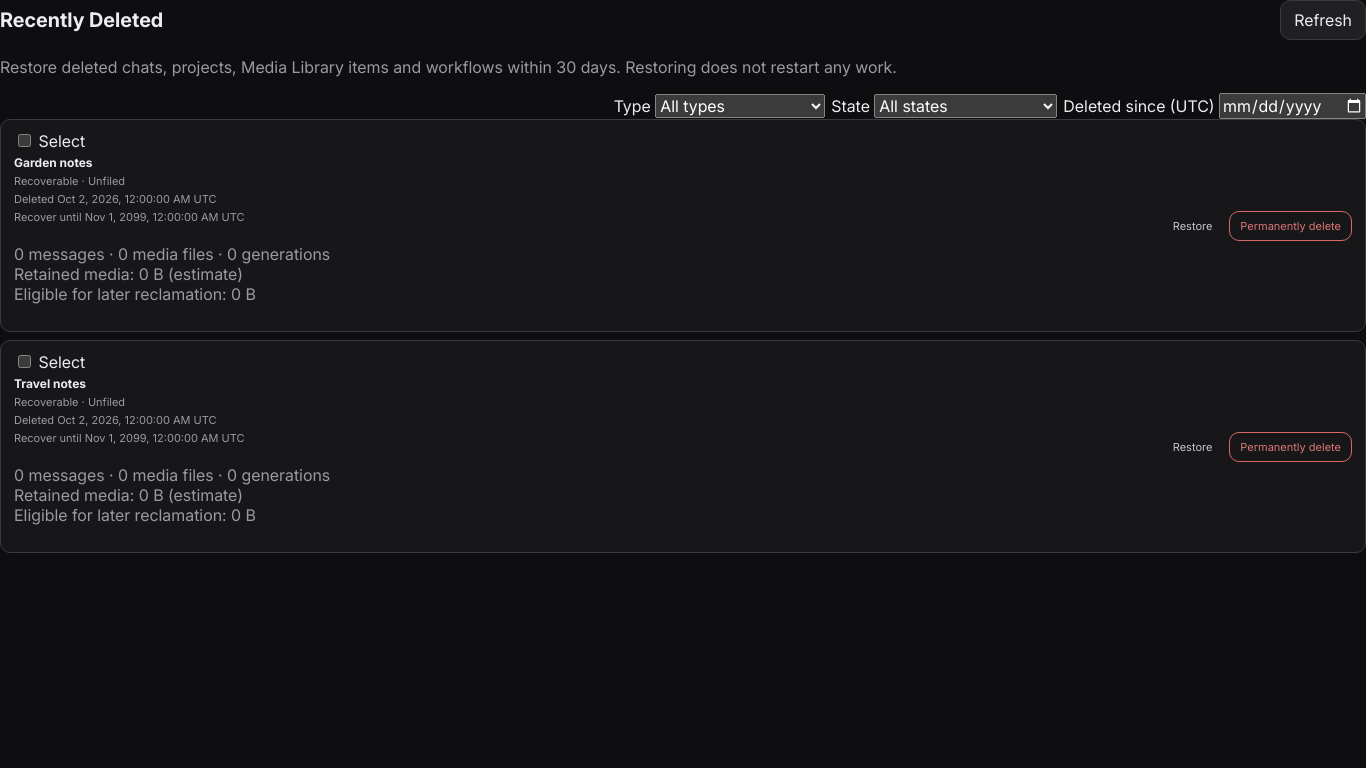
Test: waits for one materialized preview and sends one atomic command for the whole selection
The width and height of the screenshot is (1366, 768).
Click the checkbox named "Select Garden notes" at (24, 140), box [18,134,31,147]
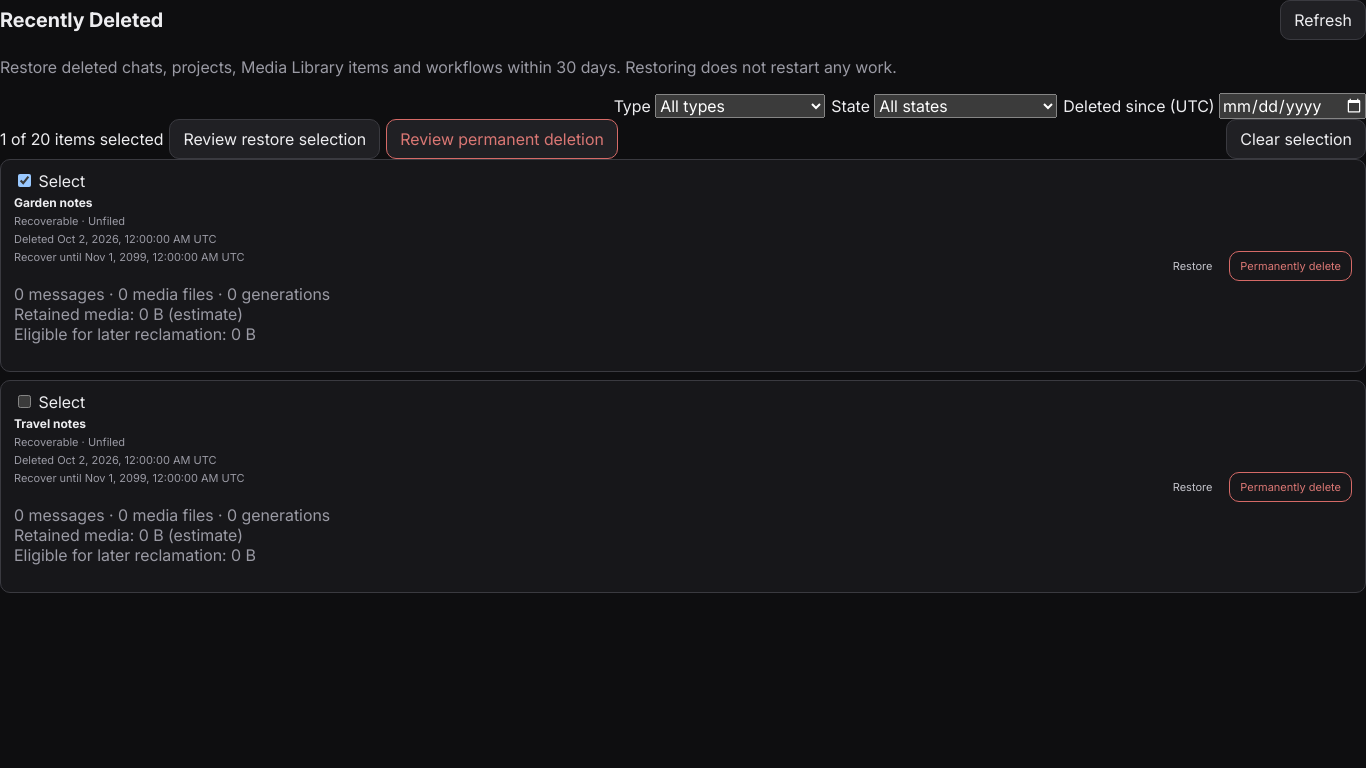
Click the checkbox named "Select Travel notes" at (24, 402), box [18,395,31,408]
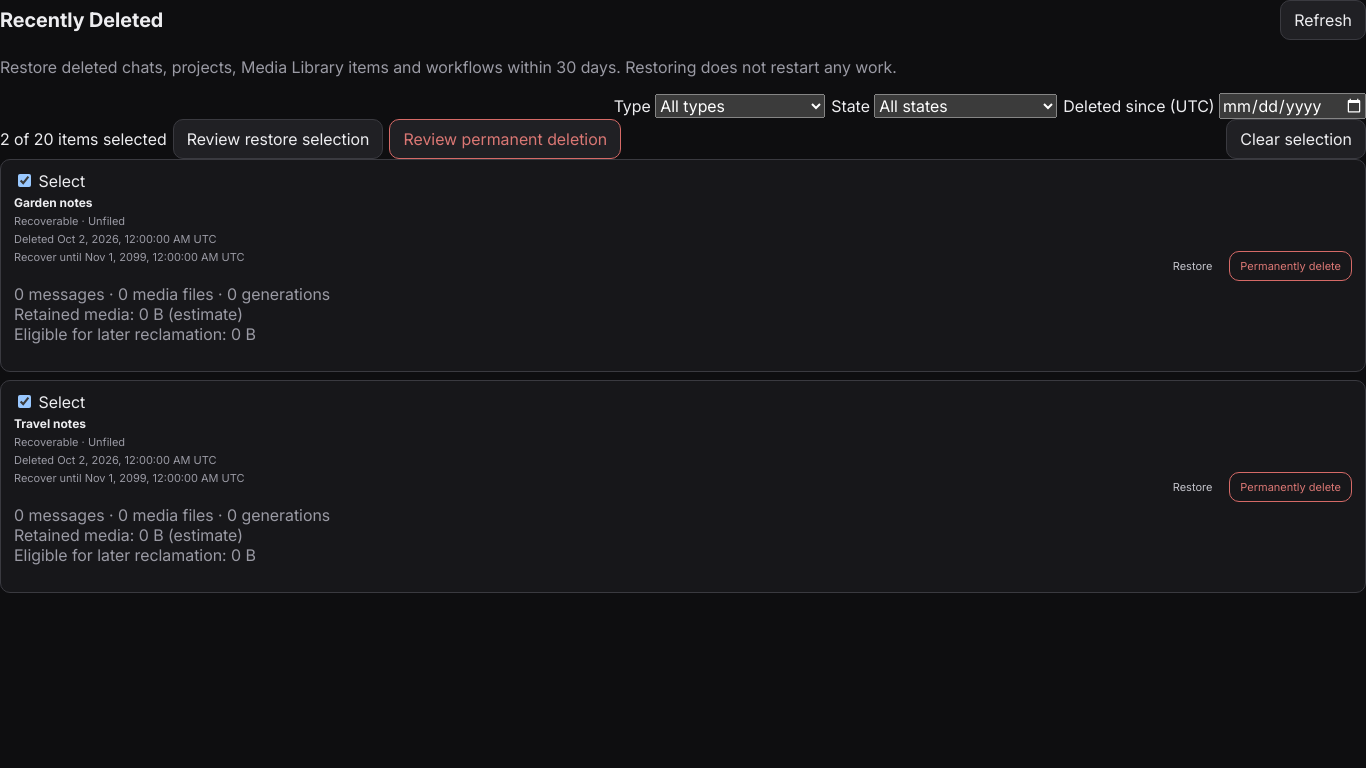
Click the button "Review restore selection" at (278, 139), box [173,119,384,159]
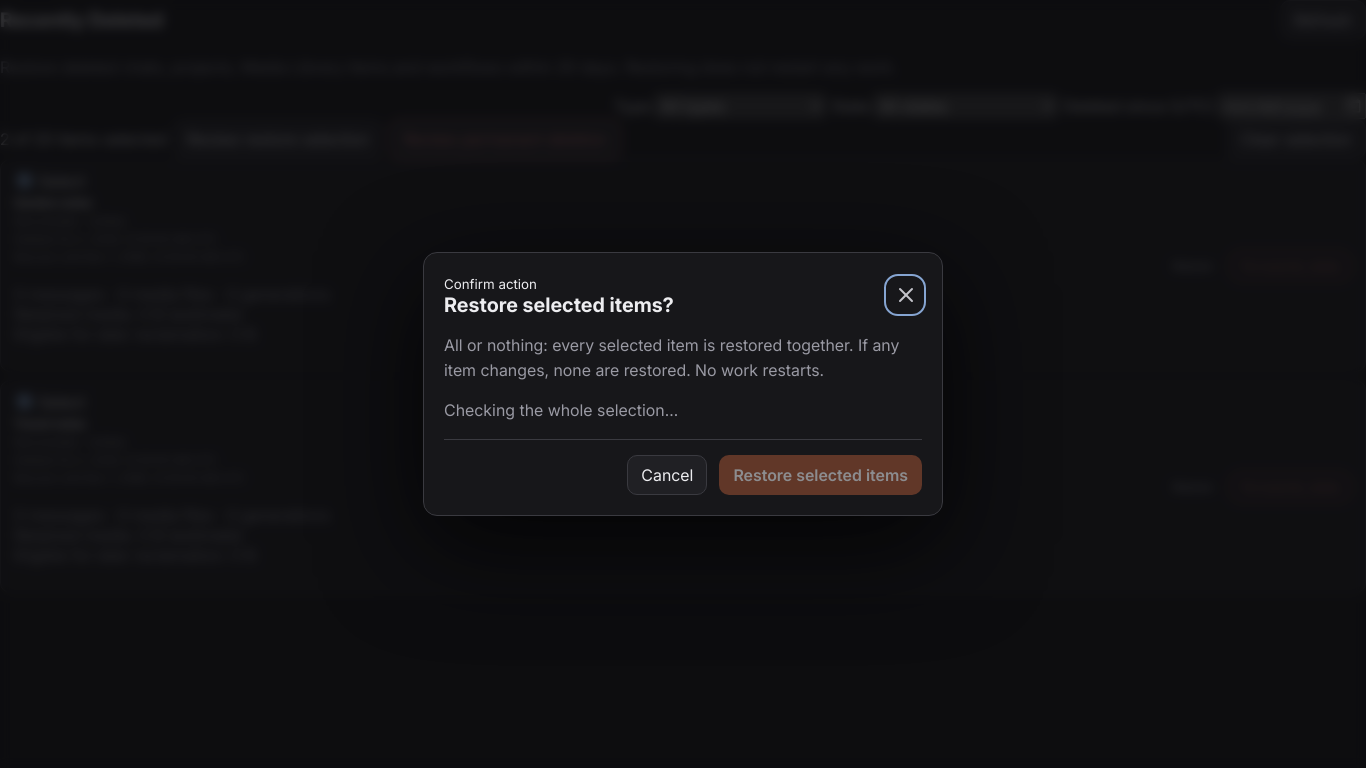
Now the text "All or nothing: every selected item" is shown, box [444,335,899,380]
Click the button "Restore selected items" at (821, 475), box [719,455,922,495]
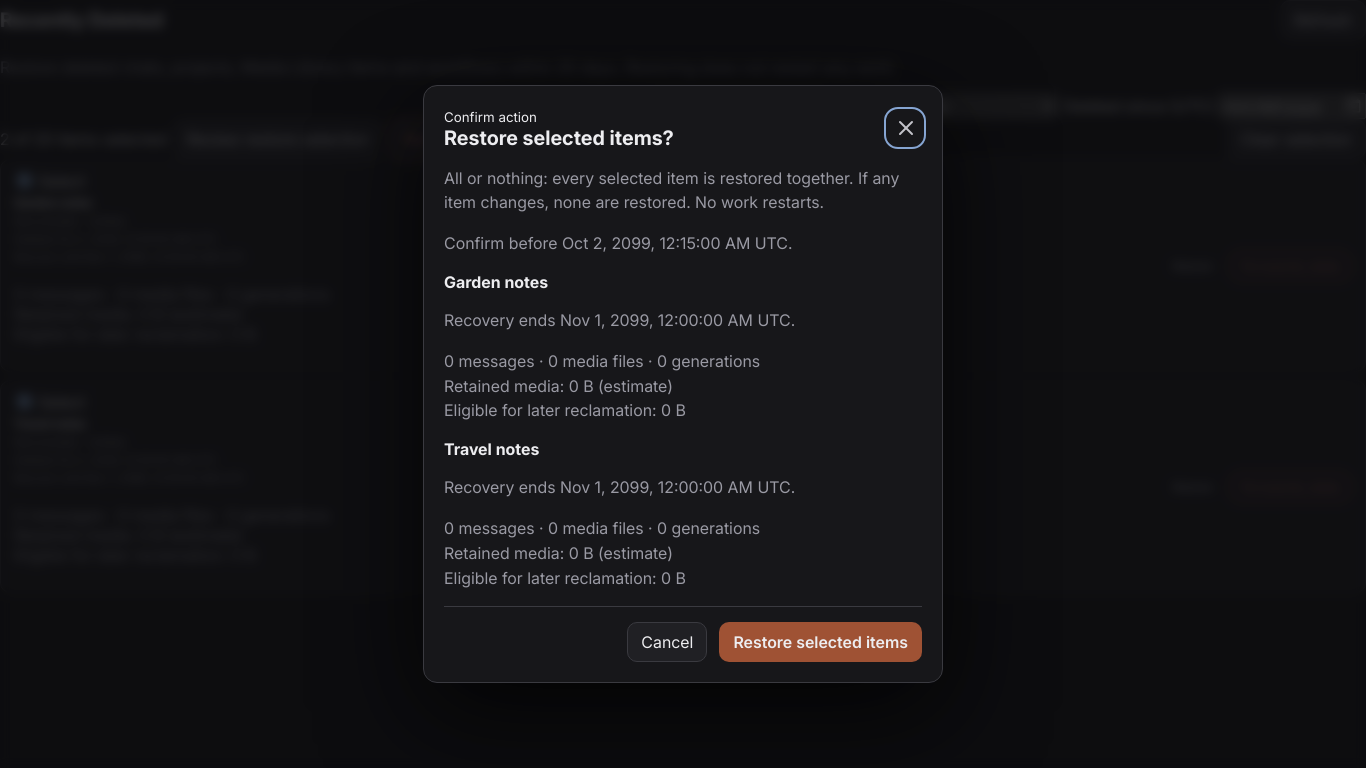
Now the button "Restore selected items" is enabled
Click the button "Restore selected items" at (821, 642), box [719,622,922,662]
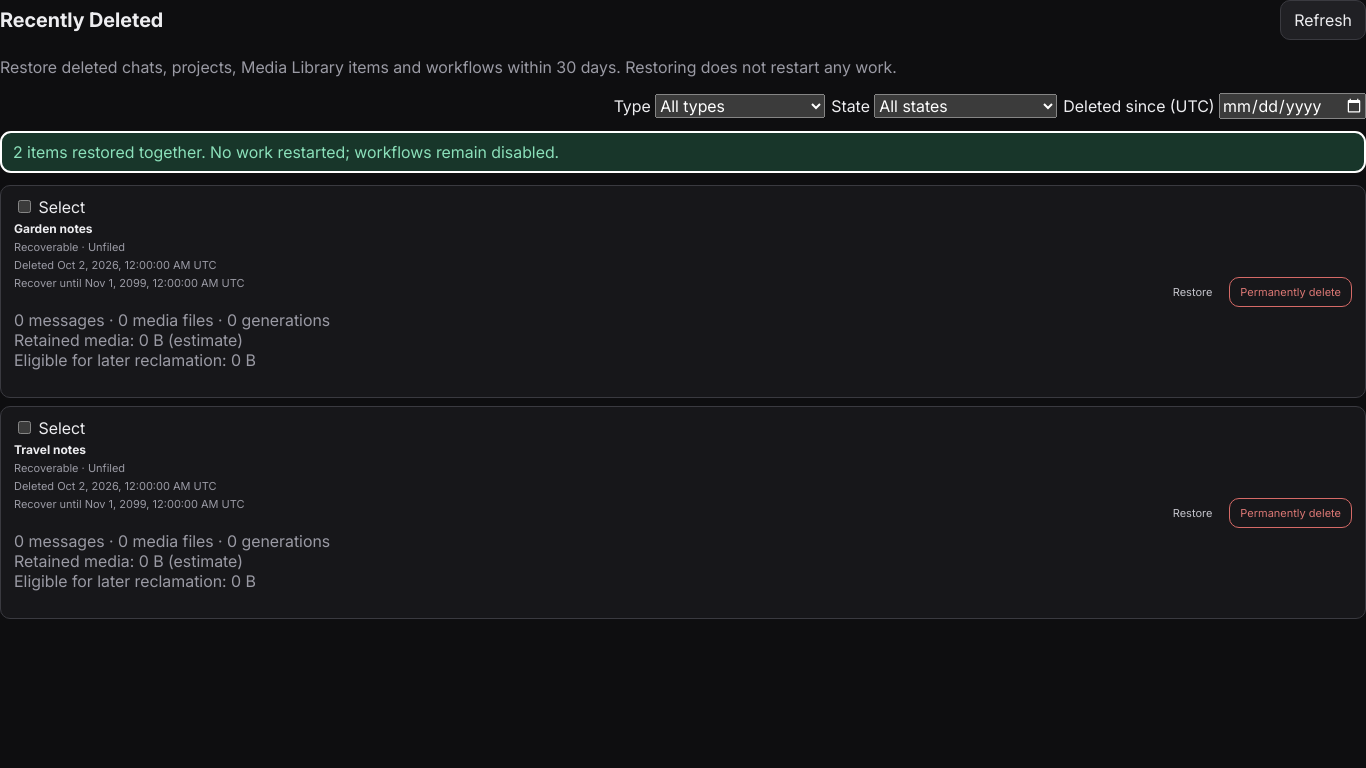
Now the dialog is gone
